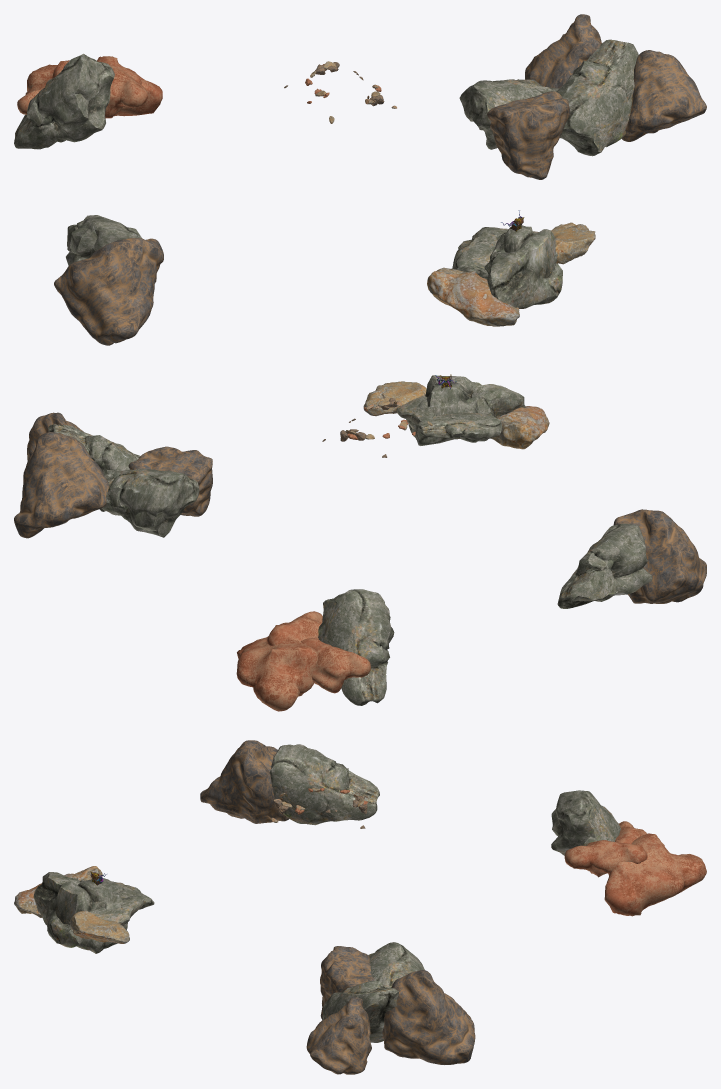
File: Rocks.glb
3 renders of one model, top to bottom at view 1: azimuth 30°, elevation 25°; view 2: azimuth 150°, elevation 25°; view 3: azimuth 270°, elevation 25°, orthographic. The views are drawn at different scales.
Parts seen in each view (by area): view 1: Low Poly_Default OBJ_0.012, Object_2.012, Object_2.013, Low Poly_Default OBJ_0.009, Object_2.010, Low Poly_Default OBJ_0.010, Object_2.016, Low Poly_Default OBJ_0.011, Object_2.011, Object_2.014, defaultMaterial.007, Object_2.008 (+2 smaller); view 2: Low Poly_Default OBJ_0.011, Object_2.013, Low Poly_Default OBJ_0.012, Object_2.014, Object_2.011, defaultMaterial.009, Object_2.010, Low Poly_Default OBJ_0.009, defaultMaterial.008, Object_2.008, Object_2.012, Object_2.016 (+4 smaller); view 3: Low Poly_Default OBJ_0.011, Object_2.014, defaultMaterial.009, Low Poly_Default OBJ_0.012, Object_2.010, Low Poly_Default OBJ_0.010, Object_2.013, Object_2.012, Low Poly_Default OBJ_0.009, defaultMaterial.007, Object_2.011, Object_2.015 (+2 smaller).
Boxes of the visible parts, bbox=[...] form: Low Poly_Default OBJ_0.012: bbox=[54, 238, 163, 345]; Object_2.012: bbox=[556, 39, 638, 156]; Object_2.013: bbox=[14, 53, 114, 149]; Low Poly_Default OBJ_0.009: bbox=[487, 91, 570, 179]; Object_2.010: bbox=[484, 225, 562, 308]; Low Poly_Default OBJ_0.010: bbox=[622, 50, 706, 141]; Object_2.016: bbox=[427, 267, 519, 326]; Low Poly_Default OBJ_0.011: bbox=[525, 14, 601, 88]; Object_2.011: bbox=[459, 79, 559, 149]; Object_2.014: bbox=[66, 215, 142, 265]; defaultMaterial.007: bbox=[97, 56, 147, 118]; Object_2.008: bbox=[452, 227, 498, 279]; Low Poly_Default OBJ_0.011: bbox=[14, 432, 108, 538]; Object_2.013: bbox=[318, 589, 394, 705]; Low Poly_Default OBJ_0.012: bbox=[613, 509, 706, 603]; Object_2.014: bbox=[557, 523, 652, 608]; Object_2.011: bbox=[101, 468, 199, 537]; defaultMaterial.009: bbox=[236, 636, 317, 711]; Object_2.010: bbox=[408, 375, 525, 445]; Low Poly_Default OBJ_0.009: bbox=[128, 446, 212, 516]; defaultMaterial.008: bbox=[301, 637, 370, 693]; Object_2.008: bbox=[417, 412, 502, 442]; Object_2.012: bbox=[48, 424, 140, 511]; Object_2.016: bbox=[491, 406, 549, 449]; Low Poly_Default OBJ_0.011: bbox=[381, 970, 475, 1064]; Object_2.014: bbox=[269, 744, 379, 825]; defaultMaterial.009: bbox=[604, 833, 706, 916]; Low Poly_Default OBJ_0.012: bbox=[200, 740, 288, 823]; Object_2.010: bbox=[33, 872, 127, 953]; Low Poly_Default OBJ_0.010: bbox=[306, 997, 371, 1074]; Object_2.013: bbox=[551, 790, 620, 855]; Object_2.012: bbox=[323, 981, 398, 1042]; Low Poly_Default OBJ_0.009: bbox=[320, 946, 374, 1020]; defaultMaterial.007: bbox=[564, 840, 647, 877]; Object_2.011: bbox=[368, 942, 424, 987]; Object_2.015: bbox=[69, 910, 129, 943].
Bounding box in the file's own units: 37.67 × 8.62 × 36.82.
Materials: 7 (7 with a texture image).
